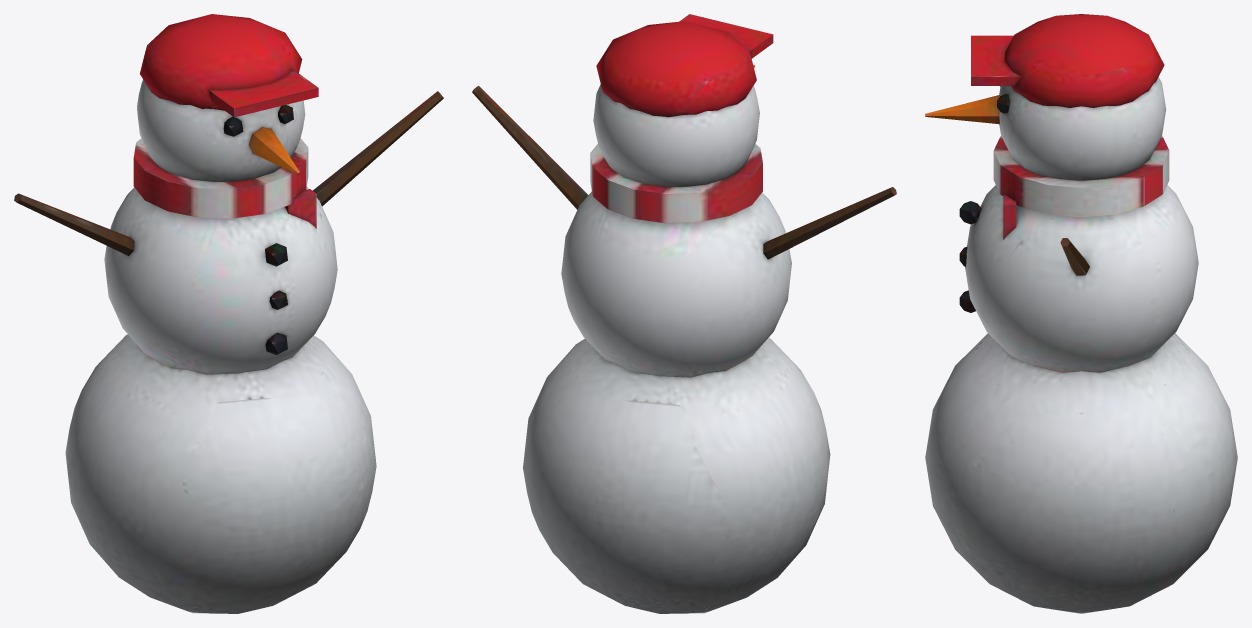
File: munieco_nieve.glb
3 views of the same model, side by side, from view 1: azimuth 30°, elevation 25°; view 2: azimuth 150°, elevation 25°; view 3: azimuth 270°, elevation 25° (orthographic).
Parts seen in each view (by area): view 1: munieco_nieve; view 2: munieco_nieve; view 3: munieco_nieve.
Boxes of the visible parts, box(x1,y1,x2,y2) form: munieco_nieve: box(14, 14, 443, 613); munieco_nieve: box(472, 14, 896, 613); munieco_nieve: box(925, 14, 1237, 613).
Bounding box in the file's own units: 1.52 × 1.95 × 0.9604.
1 material, 1 textured.
